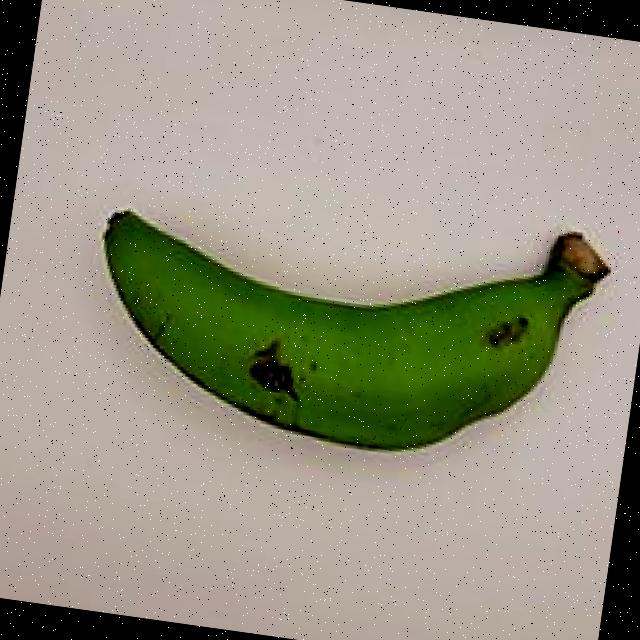Raw: (63, 143, 628, 504)
